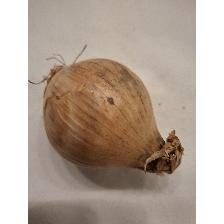Zwiebel: (30, 42, 186, 178)
